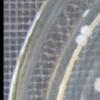white: (91, 76, 100, 93), (74, 34, 85, 45), (80, 25, 90, 36)
